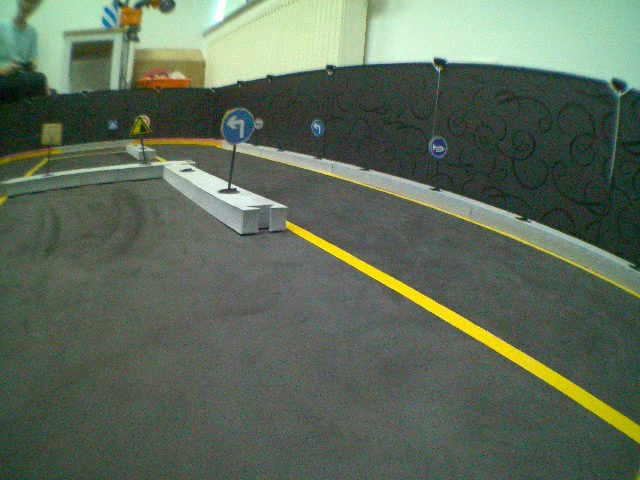Check: (255, 116, 268, 135)
fast: (130, 116, 153, 139)
horn: (424, 132, 454, 161)
turn: (216, 111, 256, 144), (309, 113, 330, 140)
